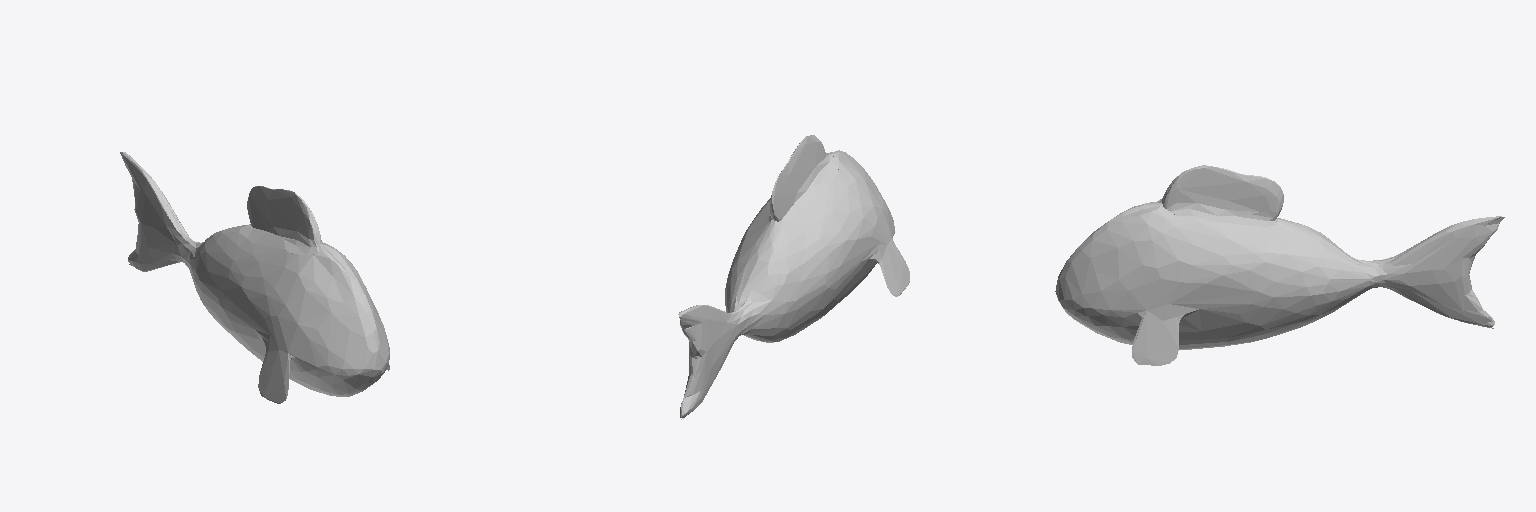
Rendered from Fish bluegill.obj.
3 renders of one model, left to right at view 1: azimuth 30°, elevation 25°; view 2: azimuth 150°, elevation 25°; view 3: azimuth 270°, elevation 25°, orthographic.
Visible parts, largest first — view 1: fish_low_poly; view 2: fish_low_poly; view 3: fish_low_poly.
Boxes of the visible parts, x1=… form: fish_low_poly: x1=120, y1=152, x2=389, y2=403; fish_low_poly: x1=678, y1=135, x2=909, y2=419; fish_low_poly: x1=1055, y1=165, x2=1504, y2=365.
Bounding box in the file's own units: 0.2685 × 0.3772 × 0.8415.